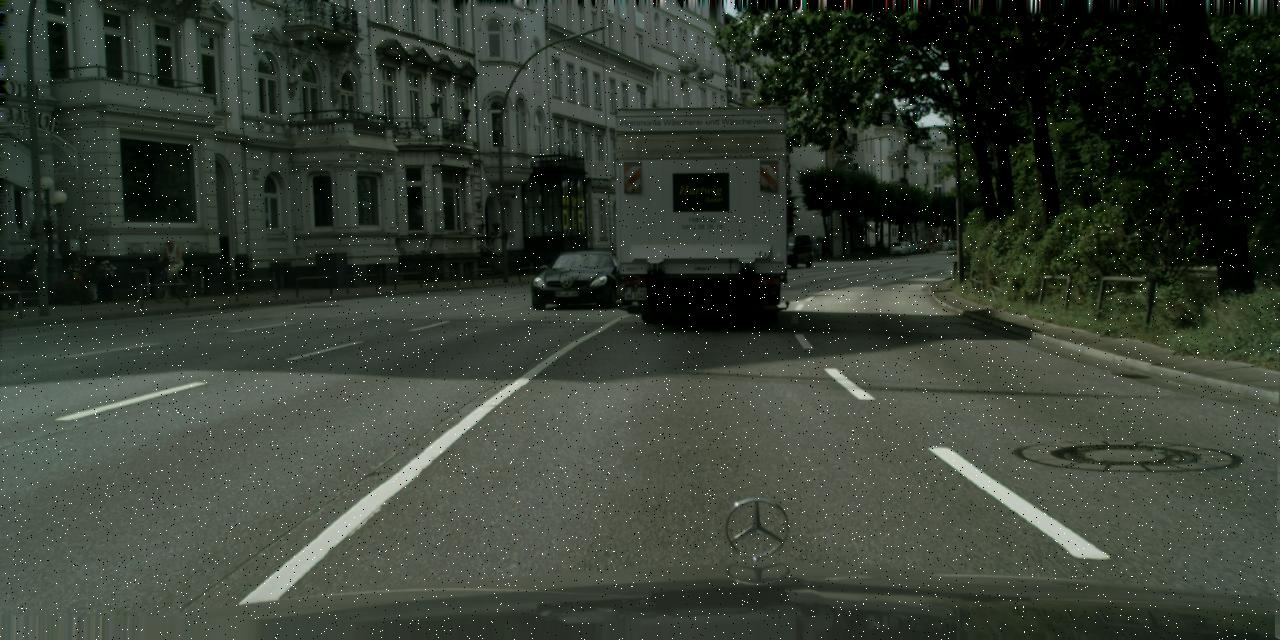ped: (161, 237, 181, 287)
